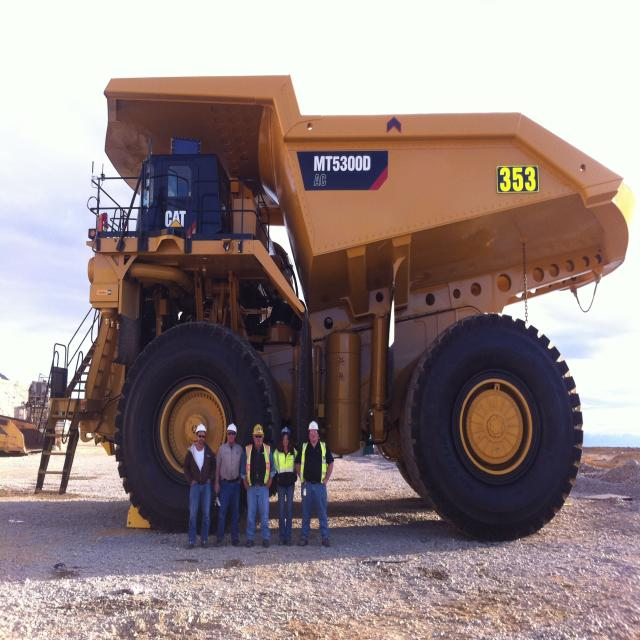dump_truck: (86, 67, 628, 557)
